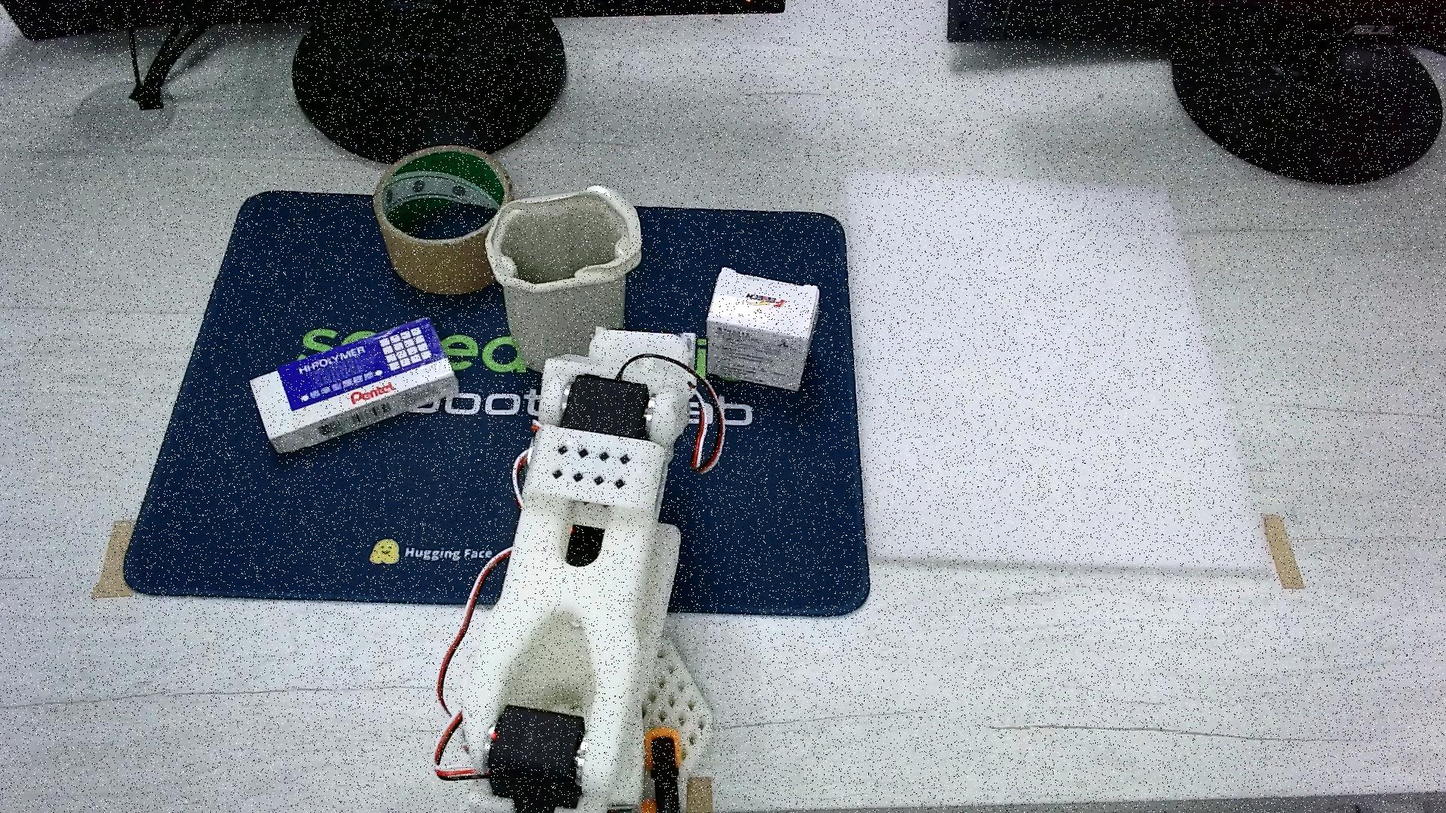eraser: (707, 266, 819, 391)
